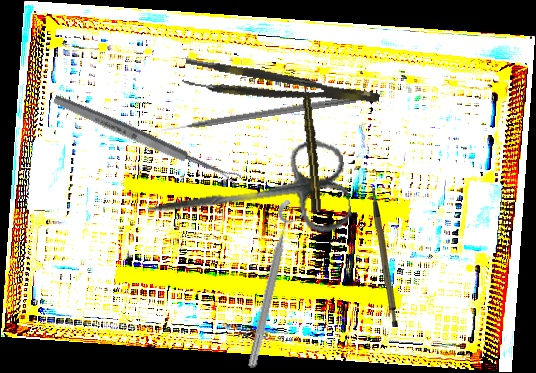Fixation Ring: (242, 197, 309, 372)
Handpiece: (299, 80, 323, 215)
Hook Surgical: (160, 93, 357, 134)
Iris Scissors: (141, 136, 354, 260)
Scalpel Handle: (370, 187, 401, 328)
Surgical Spoon: (51, 92, 243, 188)
Tissue Forceps: (181, 56, 381, 121)
